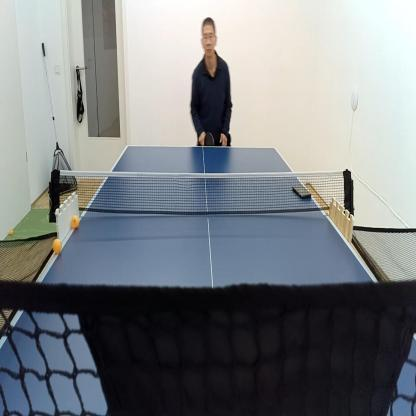Ball: (52, 237, 62, 255), (70, 215, 80, 230), (8, 227, 14, 238)
